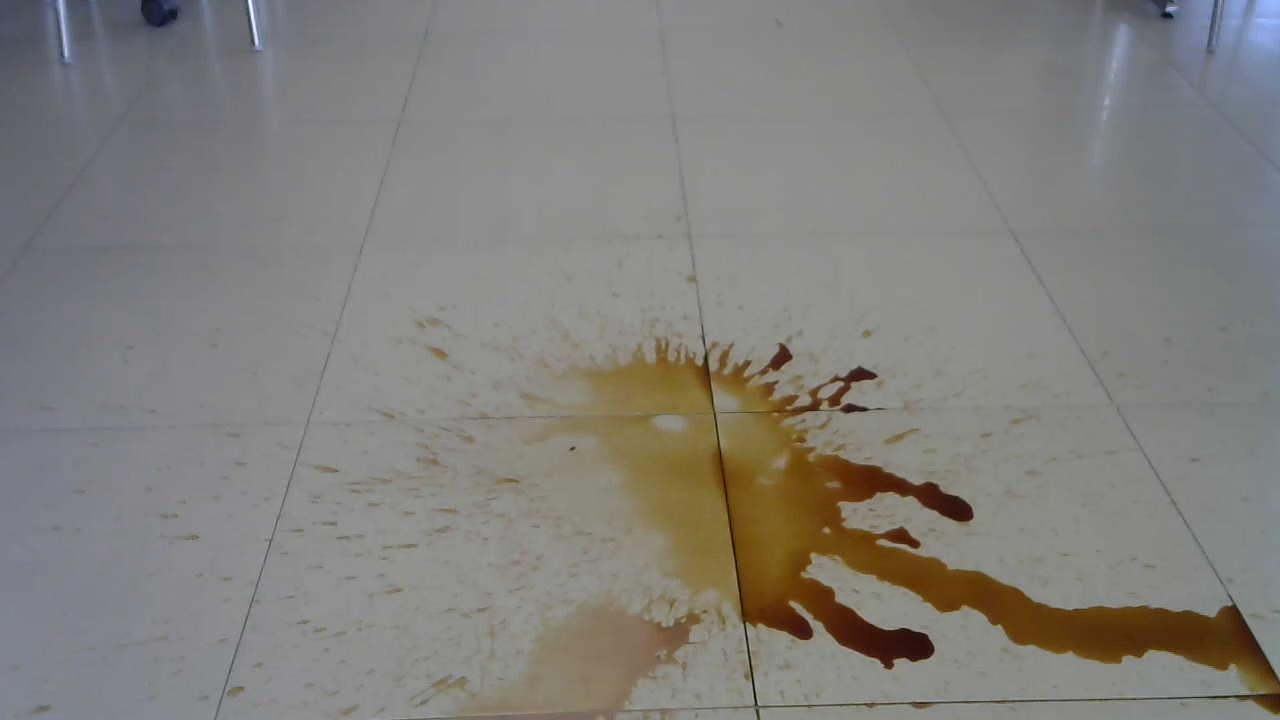dirty_floor: (340, 295, 1267, 706)
